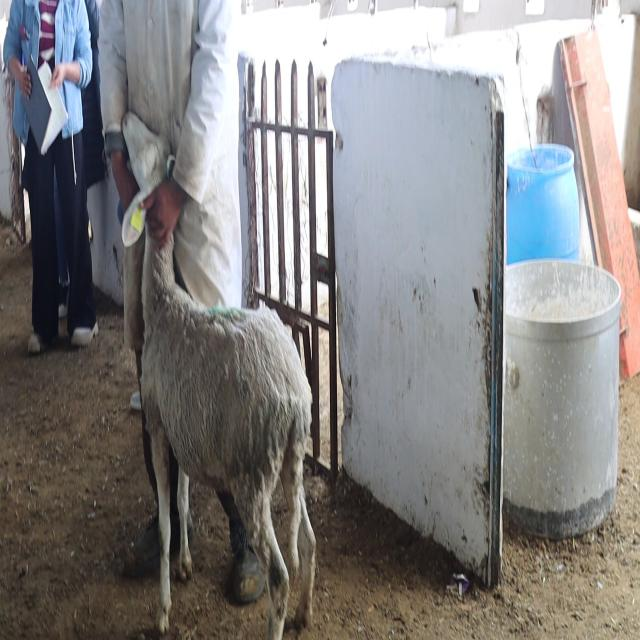Score_1: (122, 112, 316, 639)
